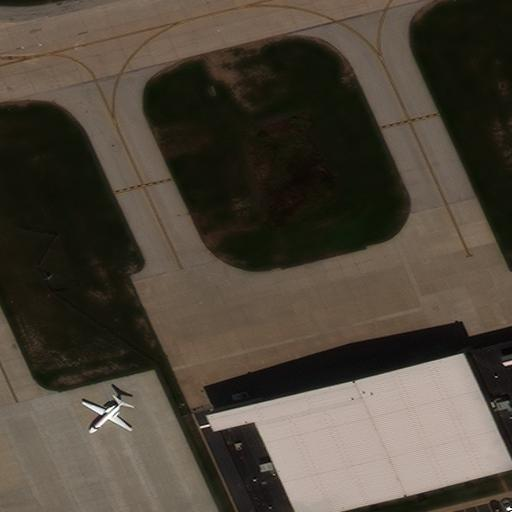Medium Civil Transport: (80, 400, 131, 433)
